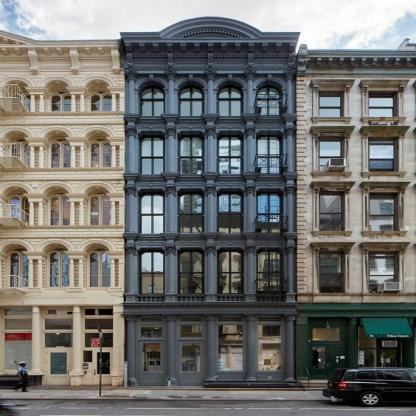Balcony: (254, 154, 288, 173), (254, 278, 289, 295), (254, 216, 288, 233)
Building Outline: (119, 16, 303, 388)
Cornice: (119, 16, 301, 39), (134, 74, 168, 91), (252, 74, 287, 90), (173, 74, 208, 90), (212, 74, 247, 90)
Door: (177, 340, 204, 385), (138, 341, 164, 386)
Facade: (120, 16, 303, 388)
Floor Slab: (125, 303, 297, 310), (125, 117, 297, 124), (125, 175, 297, 182), (125, 234, 297, 241)
Glass Wall: (257, 324, 283, 372), (217, 324, 243, 372), (258, 252, 280, 294), (142, 252, 163, 294), (180, 252, 201, 294), (219, 252, 240, 294), (258, 194, 280, 233), (180, 194, 202, 233), (219, 194, 240, 233), (142, 195, 163, 234), (257, 137, 279, 174), (142, 137, 163, 175), (181, 137, 202, 174), (219, 137, 240, 174), (258, 87, 280, 115), (142, 88, 164, 116), (181, 88, 202, 116), (219, 88, 240, 116)
Molding: (124, 43, 296, 53), (125, 118, 296, 122), (176, 30, 246, 38), (123, 304, 297, 307), (125, 236, 296, 239), (125, 177, 296, 180), (213, 55, 248, 59), (254, 55, 288, 59), (133, 55, 167, 59), (174, 55, 208, 59)
Pillar: (201, 314, 221, 381), (121, 314, 139, 386), (161, 314, 179, 386), (242, 314, 260, 381), (282, 314, 299, 382), (125, 243, 137, 302), (285, 243, 296, 302), (165, 243, 176, 302), (205, 243, 216, 302), (245, 243, 256, 302), (285, 186, 297, 233), (125, 186, 136, 233), (165, 186, 176, 233), (285, 129, 297, 172), (125, 129, 136, 173), (165, 129, 176, 173), (205, 186, 215, 233), (285, 74, 297, 113), (245, 186, 255, 232), (165, 73, 176, 114), (125, 74, 136, 114), (205, 129, 215, 172), (245, 129, 255, 172), (205, 73, 215, 114), (245, 73, 255, 113)
Window: (180, 325, 201, 338), (141, 325, 162, 338)
